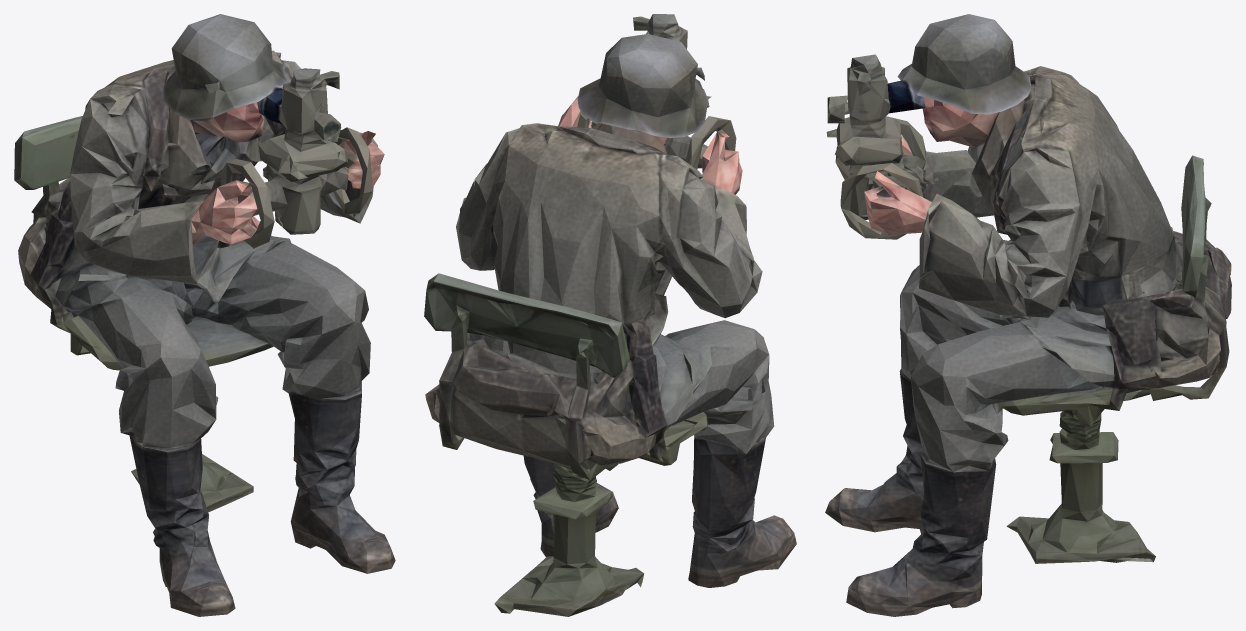
File: crew_layer.obj
3 renders of one model, left to right at view 1: azimuth 30°, elevation 25°; view 2: azimuth 150°, elevation 25°; view 3: azimuth 270°, elevation 25°, orthographic.
Parts seen in each view (by area): view 1: crew_layer; view 2: crew_layer; view 3: crew_layer.
Boxes of the visible parts, x1,y1,x2,y2 form: crew_layer: (14,14,395,616); crew_layer: (424,14,796,616); crew_layer: (825,14,1231,616).
Bounding box in the file's own units: 0.7568 × 1.35 × 0.9344.
1 material, 1 textured.
